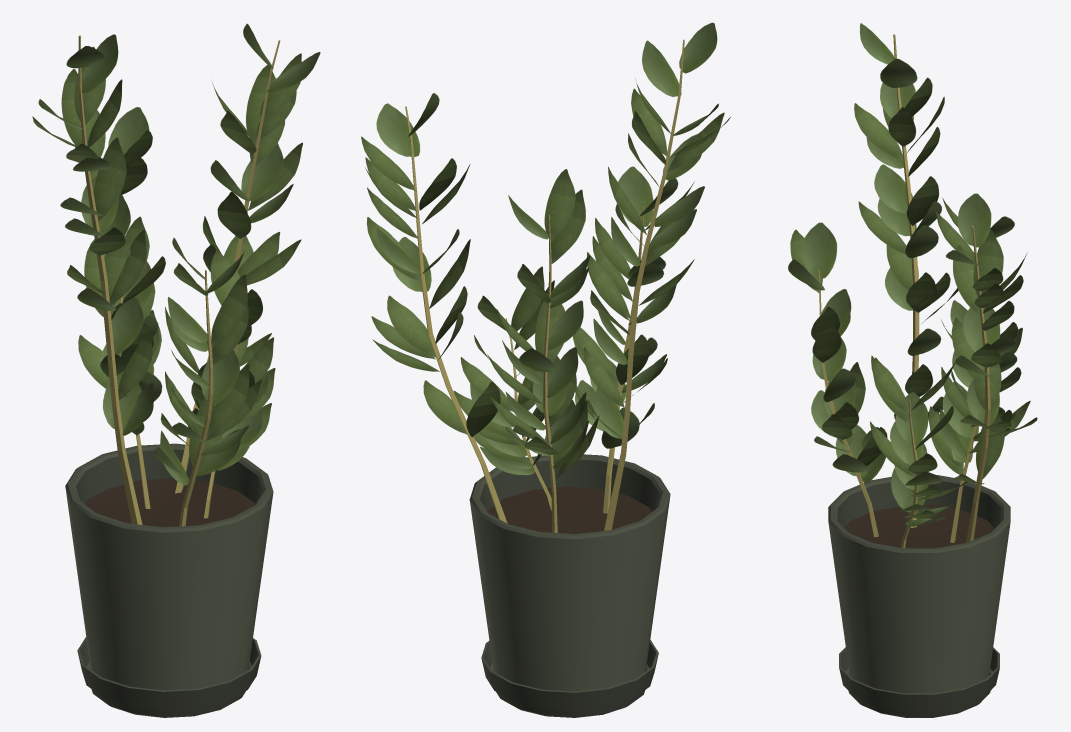
Rendered from ZZ Plant w_ Pot.glb.
3 views of the same model, side by side, from view 1: azimuth 30°, elevation 25°; view 2: azimuth 150°, elevation 25°; view 3: azimuth 270°, elevation 25° (orthographic). The views are drawn at different scales.
Visible parts, largest first — view 1: ZZ Plant w/ Pot; view 2: ZZ Plant w/ Pot; view 3: ZZ Plant w/ Pot.
Part boxes in pixels (x1,y1,x2,y2): ZZ Plant w/ Pot: (32, 23, 320, 717); ZZ Plant w/ Pot: (361, 22, 730, 717); ZZ Plant w/ Pot: (788, 23, 1037, 717).
Size of the model in its own units: 0.4352 by 0.8512 by 0.3561.
Materials: 3 (2 with a texture image).
